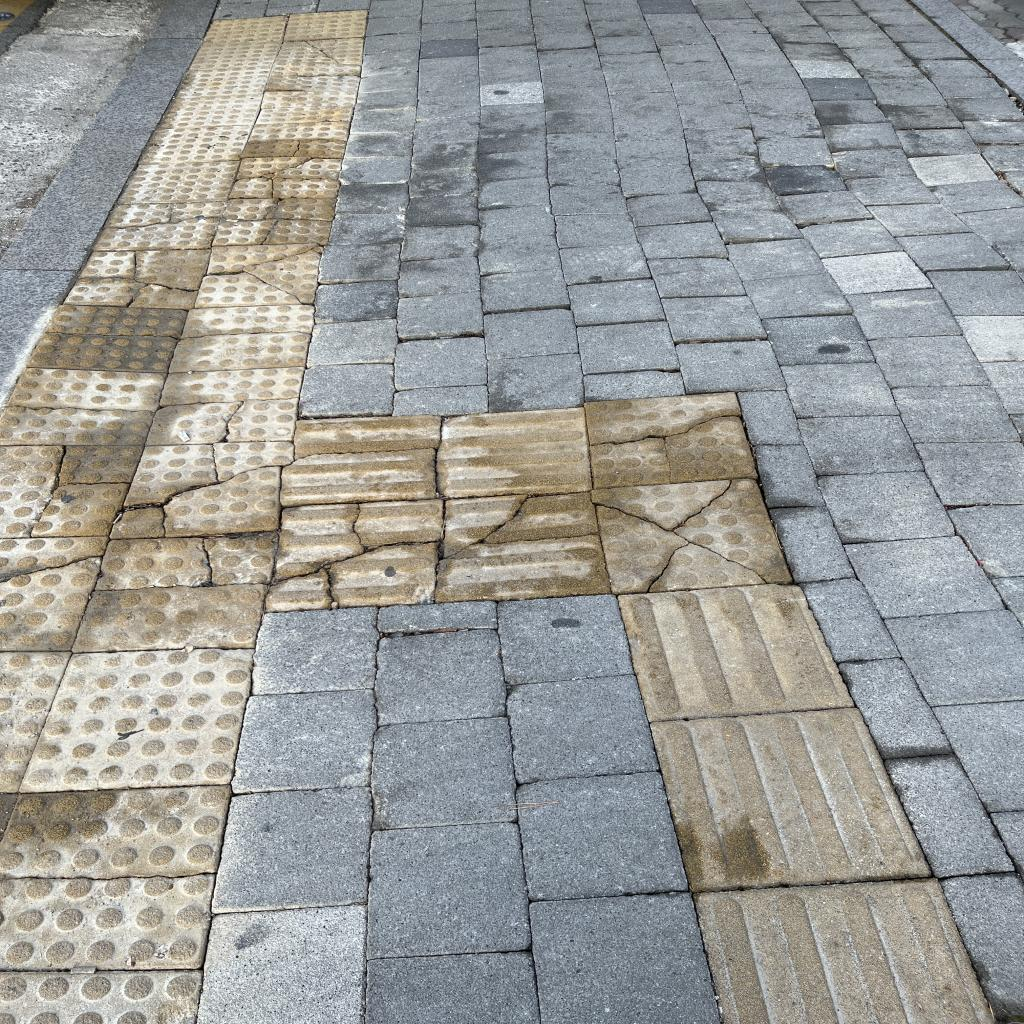Stop block broken: (71, 535, 279, 650), (593, 474, 789, 594), (108, 438, 295, 537), (588, 393, 755, 486), (144, 368, 303, 443), (29, 305, 187, 372), (167, 302, 317, 372), (65, 248, 211, 308), (194, 244, 324, 306), (93, 202, 228, 249), (212, 196, 337, 246), (229, 158, 342, 199), (243, 123, 349, 157)
Stop block normal: (16, 643, 259, 791), (116, 161, 241, 204), (157, 94, 264, 128)
Straight block broken: (265, 500, 448, 612), (432, 491, 606, 601), (277, 413, 442, 504)
Straight block normal: (651, 704, 930, 890), (619, 577, 853, 722), (438, 407, 592, 497)
